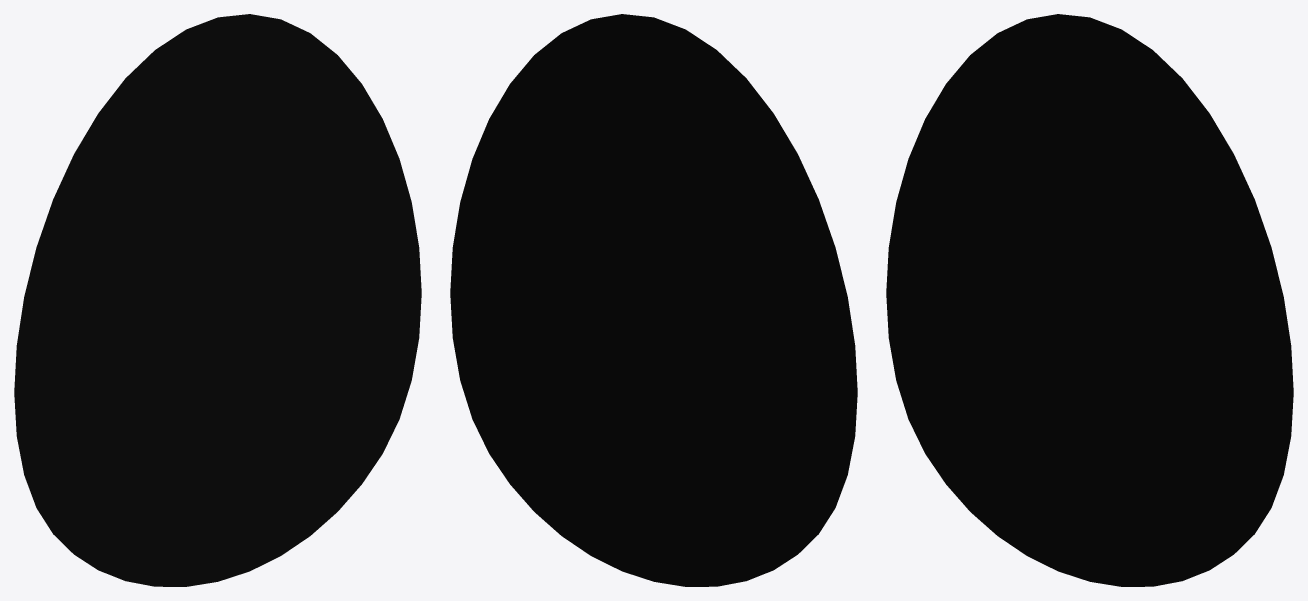
File: Oden_DotLine_Egg.gltf
3 views of the same model, side by side, from view 1: azimuth 30°, elevation 25°; view 2: azimuth 150°, elevation 25°; view 3: azimuth 330°, elevation 25° (orthographic).
Parts seen in each view (by area): view 1: Oden_DotLine_Egg; view 2: Oden_DotLine_Egg; view 3: Oden_DotLine_Egg.
Part boxes in pixels (x1,y1,x2,y2): Oden_DotLine_Egg: (14, 14, 421, 586); Oden_DotLine_Egg: (450, 14, 857, 586); Oden_DotLine_Egg: (886, 14, 1293, 586).
Size of the model in its own units: 1.45 by 1.92 by 7.27e-06.
Materials: 1 (1 with a texture image).
